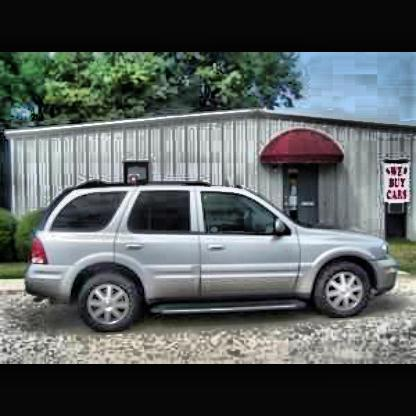Buick Rainier SUV 2007: (26, 185, 403, 337)
